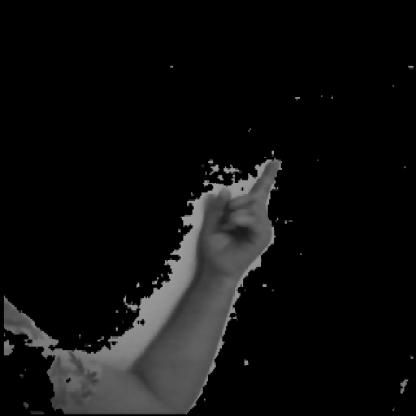one: (155, 134, 317, 369)
